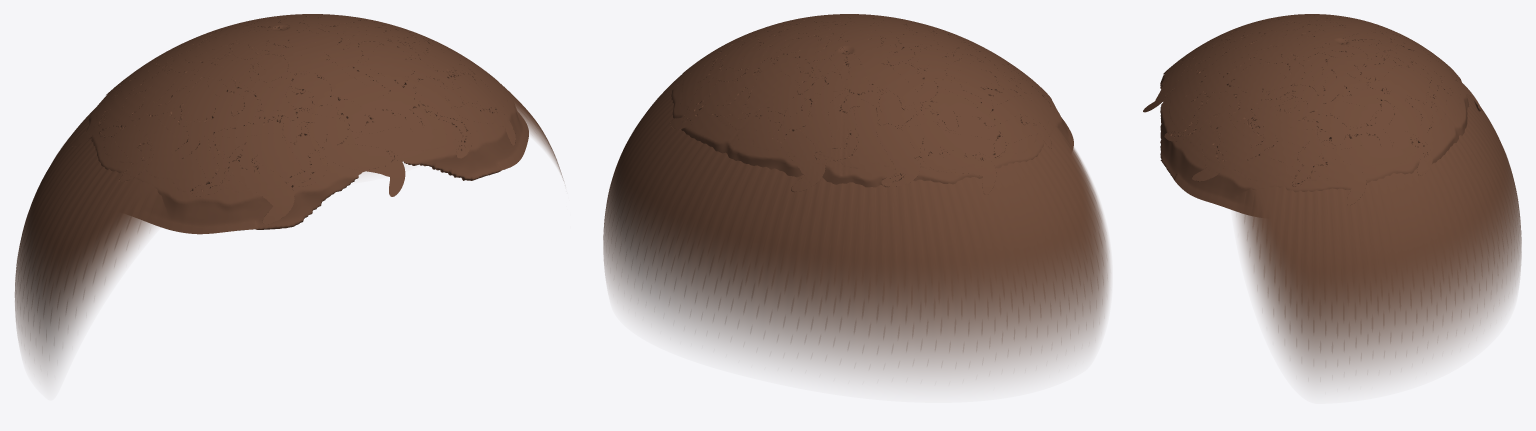
The model's file is Masculine-curly-top-cap257-hair-ombre.glb.
3 views of the same model, side by side, from view 1: azimuth 30°, elevation 25°; view 2: azimuth 150°, elevation 25°; view 3: azimuth 270°, elevation 25° (orthographic). The views are drawn at different scales.
Parts seen in each view (by area): view 1: 226 hair / Hair252 / sculpted curl groups, 226 hair / Hair257 / smooth side fade, 226 hair / Hair257 / directional fade marks; view 2: 226 hair / Hair257 / smooth side fade, 226 hair / Hair252 / sculpted curl groups, 226 hair / Hair257 / directional fade marks; view 3: 226 hair / Hair257 / smooth side fade, 226 hair / Hair252 / sculpted curl groups, 226 hair / Hair257 / directional fade marks.
Part boxes in pixels (x1,y1,x2,y2): 226 hair / Hair252 / sculpted curl groups: [72, 14, 528, 234]; 226 hair / Hair257 / smooth side fade: [15, 22, 563, 377]; 226 hair / Hair257 / directional fade marks: [16, 100, 537, 337]; 226 hair / Hair257 / smooth side fade: [603, 14, 1110, 381]; 226 hair / Hair252 / sculpted curl groups: [661, 14, 1073, 194]; 226 hair / Hair257 / directional fade marks: [613, 79, 1103, 350]; 226 hair / Hair257 / smooth side fade: [1200, 14, 1521, 384]; 226 hair / Hair252 / sculpted curl groups: [1143, 14, 1481, 216]; 226 hair / Hair257 / directional fade marks: [1244, 98, 1518, 351].
Size of the model in its own units: 0.9723 by 0.584 by 0.7284.
